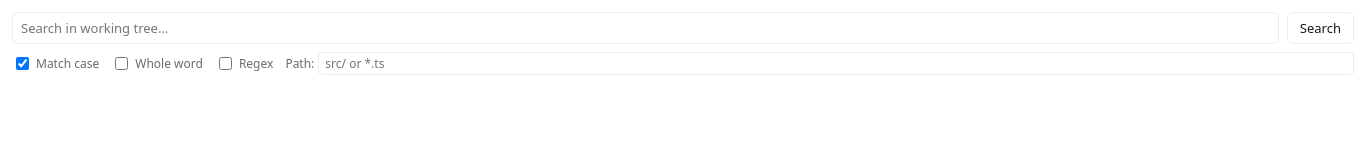
Test: SearchView › reports when there are no matches
Type "zzz" into the field labelled "Search in working tree" at (645, 28), box [12,12,1279,44]
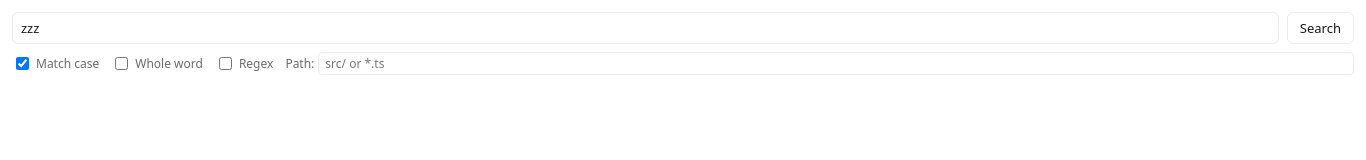
Click the button "Search" at (1320, 28), box [1287,12,1354,44]
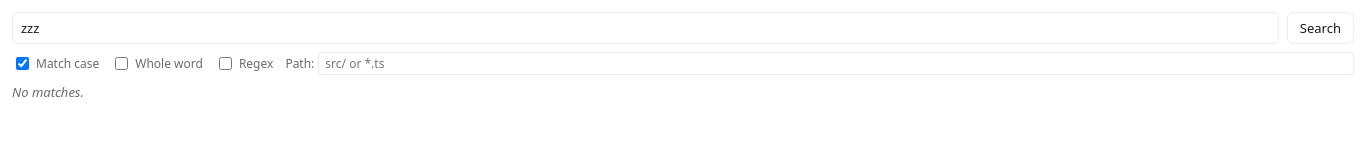
Result: the text "No matches." is shown at [12,83,84,101]
